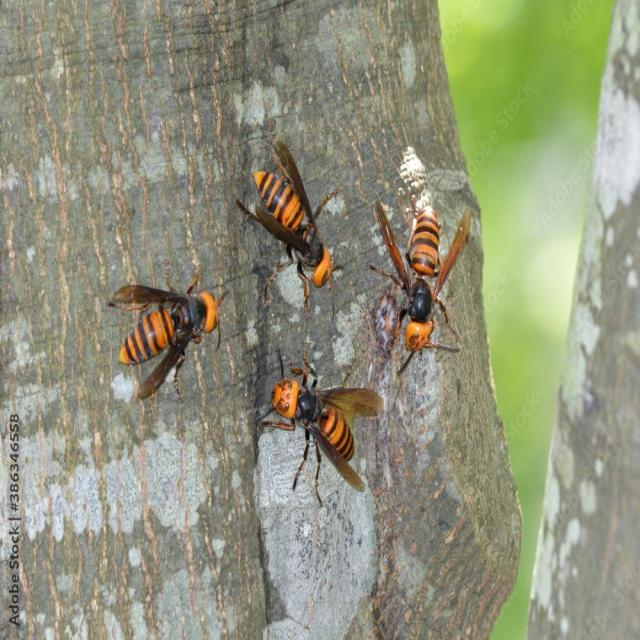Wasp: (370, 184, 470, 363), (260, 350, 370, 501), (94, 275, 224, 398), (246, 133, 347, 287)
